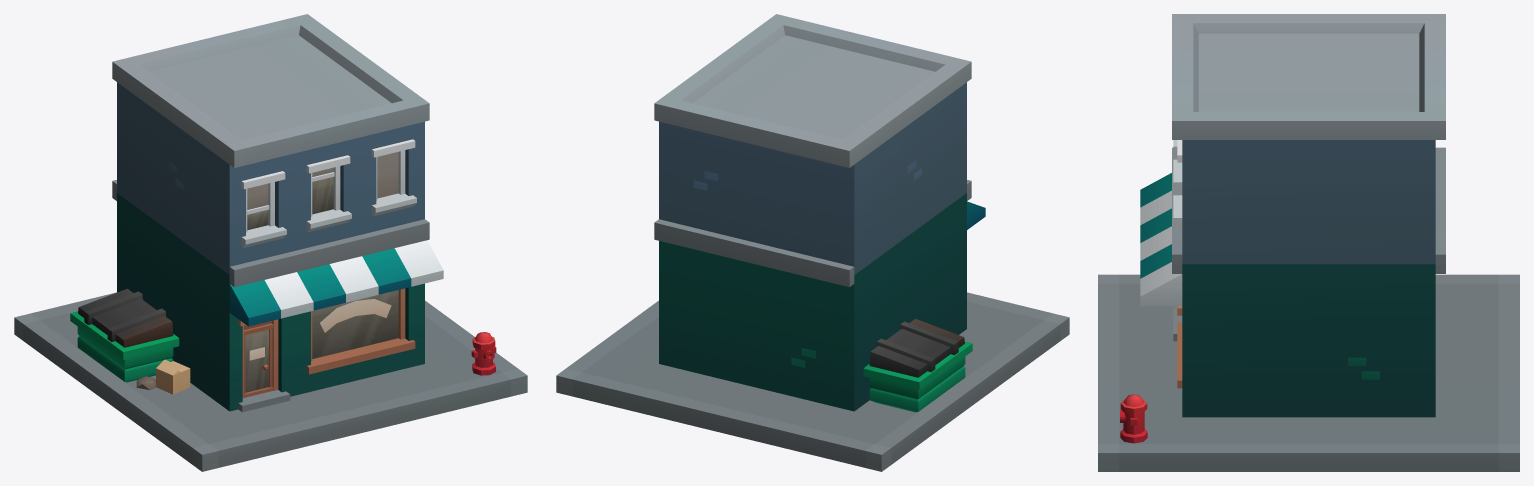
Rendered from kkcity.building_a.glb.
The picture shows the model from 3 angles, left to right: view 1: azimuth 30°, elevation 25°; view 2: azimuth 150°, elevation 25°; view 3: azimuth 270°, elevation 25°; orthographic projection. The views are drawn at different scales.
Visible parts, largest first — view 1: building_A; view 2: building_A; view 3: building_A.
Boxes of the visible parts, left/top/right/bottom form: building_A: left=14, top=14, right=527, bottom=471; building_A: left=556, top=14, right=1069, bottom=471; building_A: left=1098, top=14, right=1519, bottom=471.
Bounding box in the file's own units: 9.59 × 7.92 × 9.59.
1 material, 1 textured.
